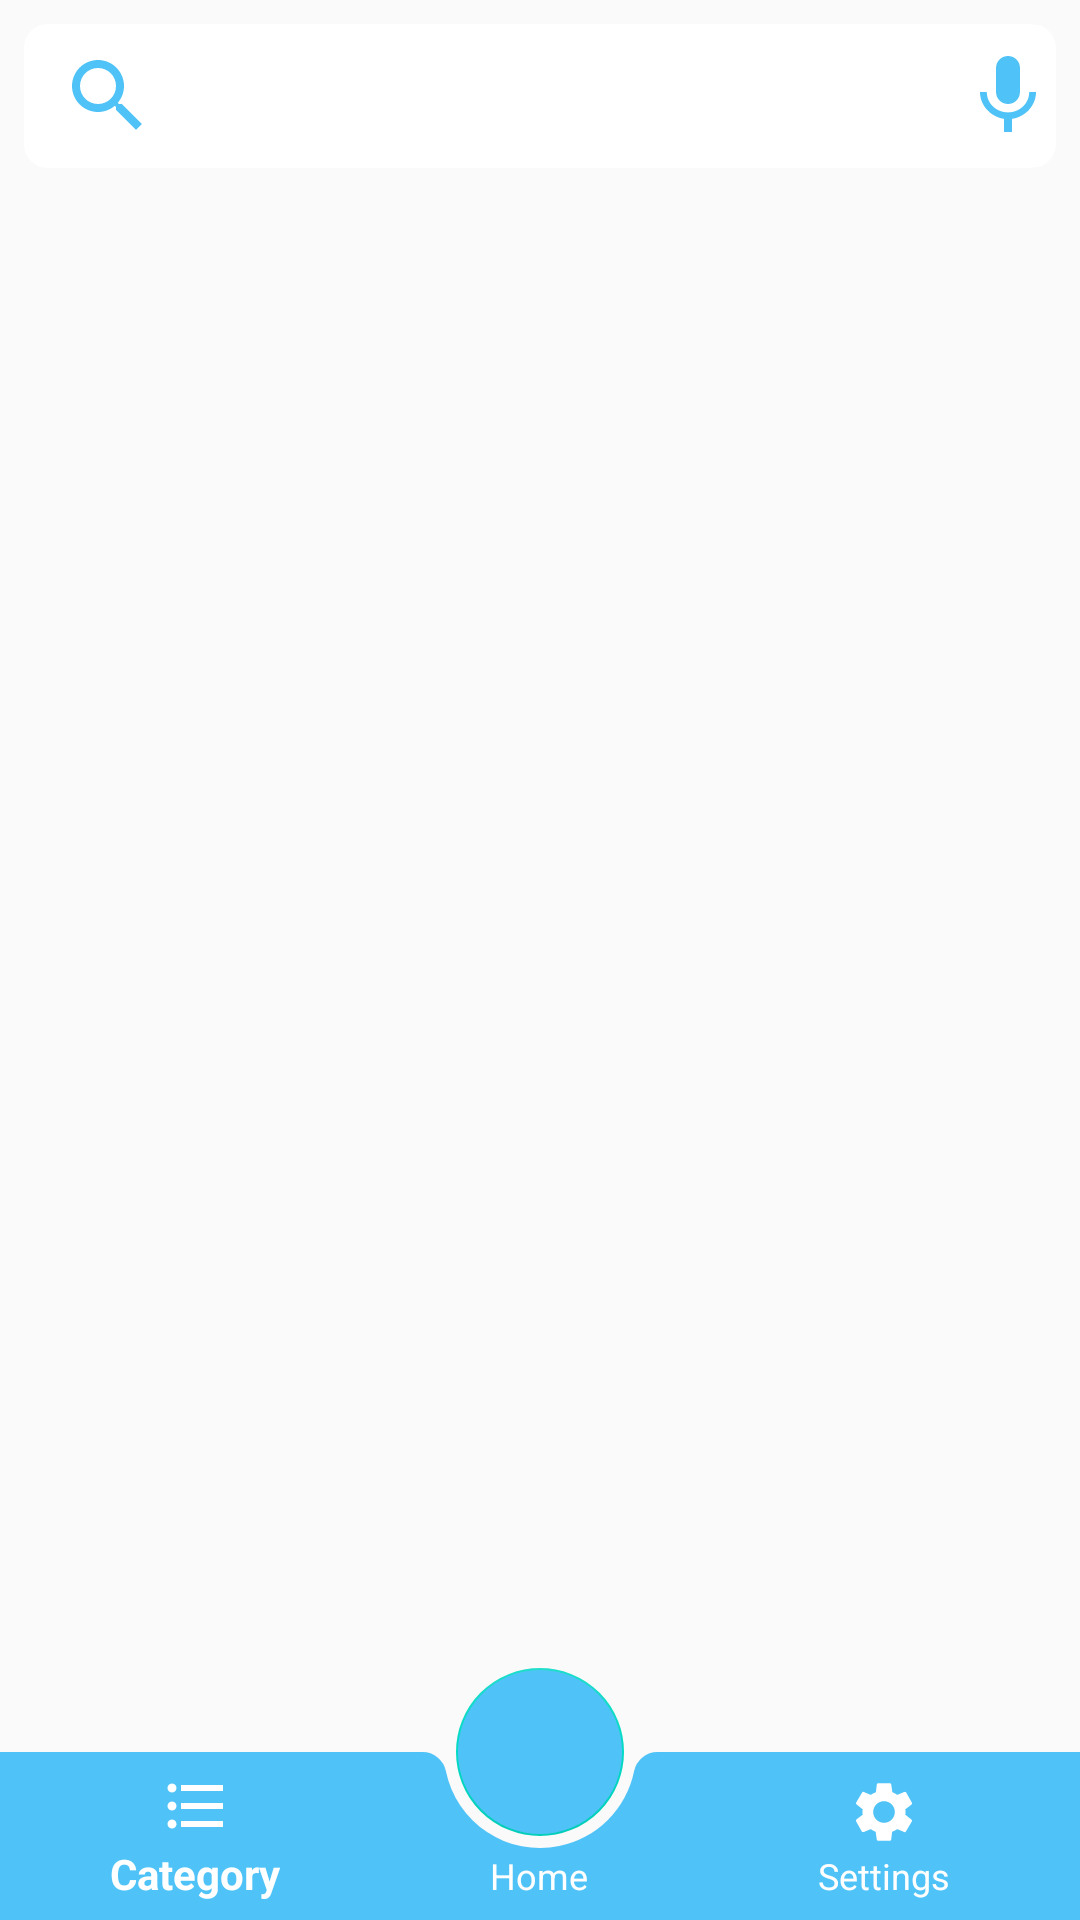

Icons on this 1080×1920 Android screen, each with the point to tap as [x,y]:
mic: [1008,94]
